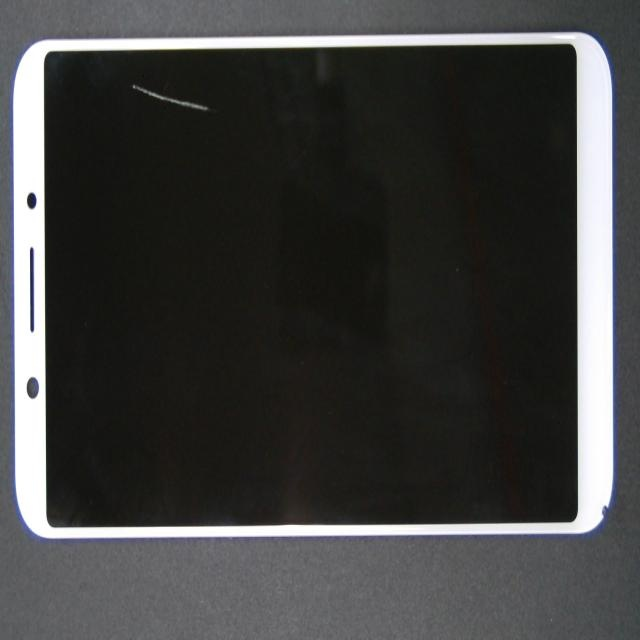scratch: (151, 68, 277, 134)
